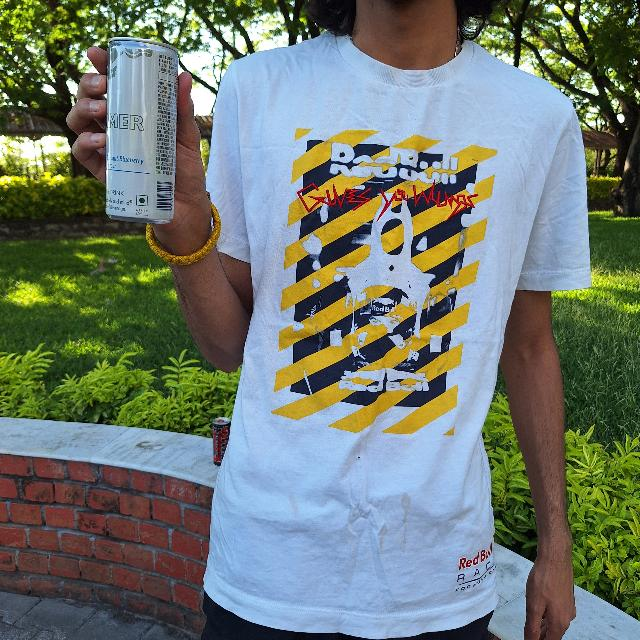Redbull Summer Edition: (102, 38, 180, 222)
